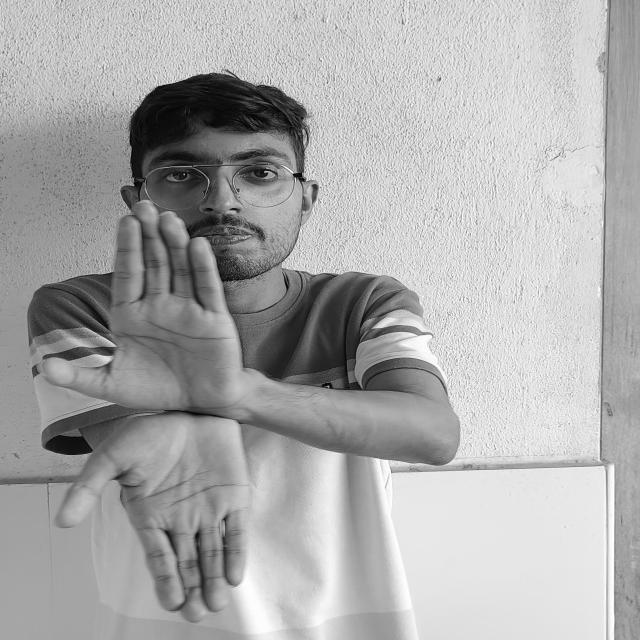Morning: (36, 191, 334, 636)
